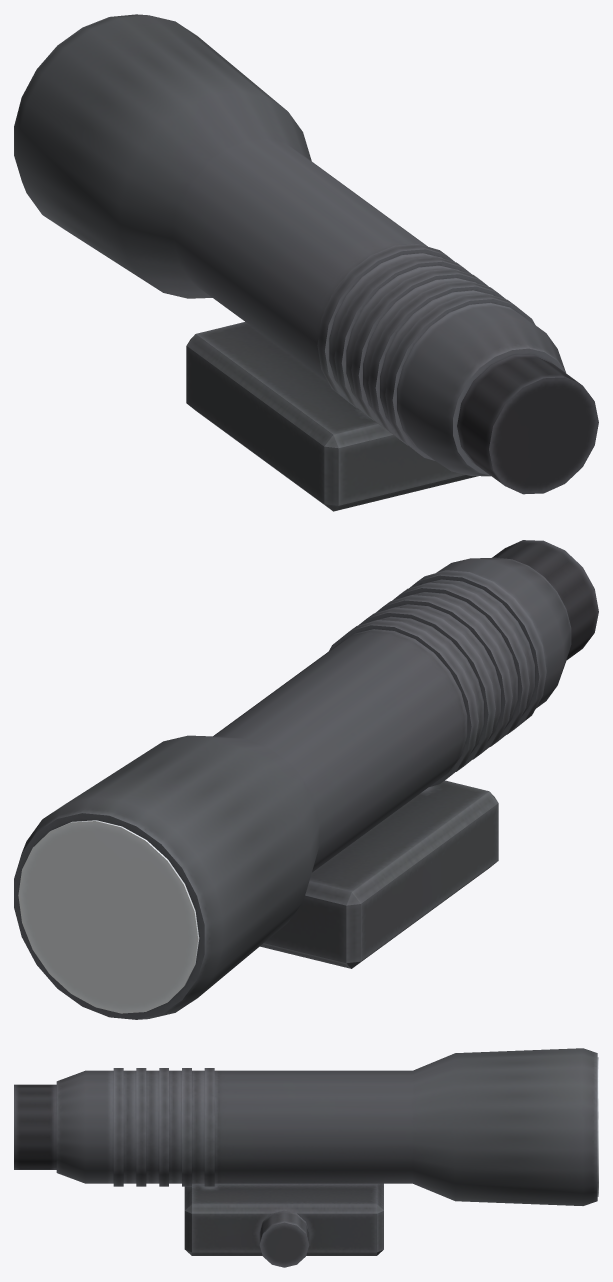
Rendered from AT_TacLight.fbx.
3 views of the same model, one above another, from view 1: azimuth 30°, elevation 25°; view 2: azimuth 150°, elevation 25°; view 3: azimuth 270°, elevation 25° (orthographic). The views are drawn at different scales.
Visible parts, largest first — view 1: AT_TacLight_export; view 2: AT_TacLight_export; view 3: AT_TacLight_export.
Part boxes in pixels (x1,y1,x2,y2): AT_TacLight_export: (14, 14, 598, 511); AT_TacLight_export: (14, 540, 598, 1019); AT_TacLight_export: (14, 1048, 598, 1267).
Bounding box in the file's own units: 0.0246 × 0.0822 × 0.0272.
